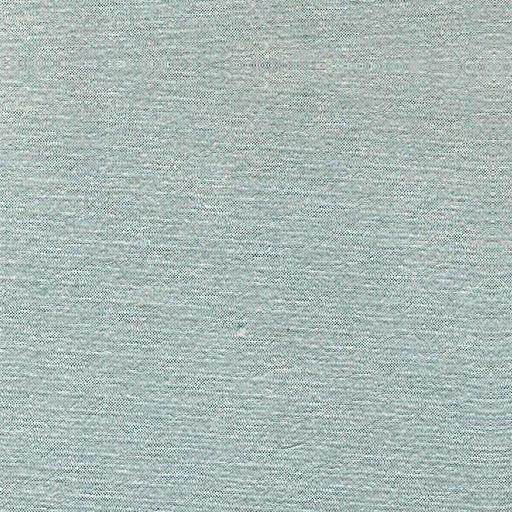knot: (228, 316, 259, 347)
